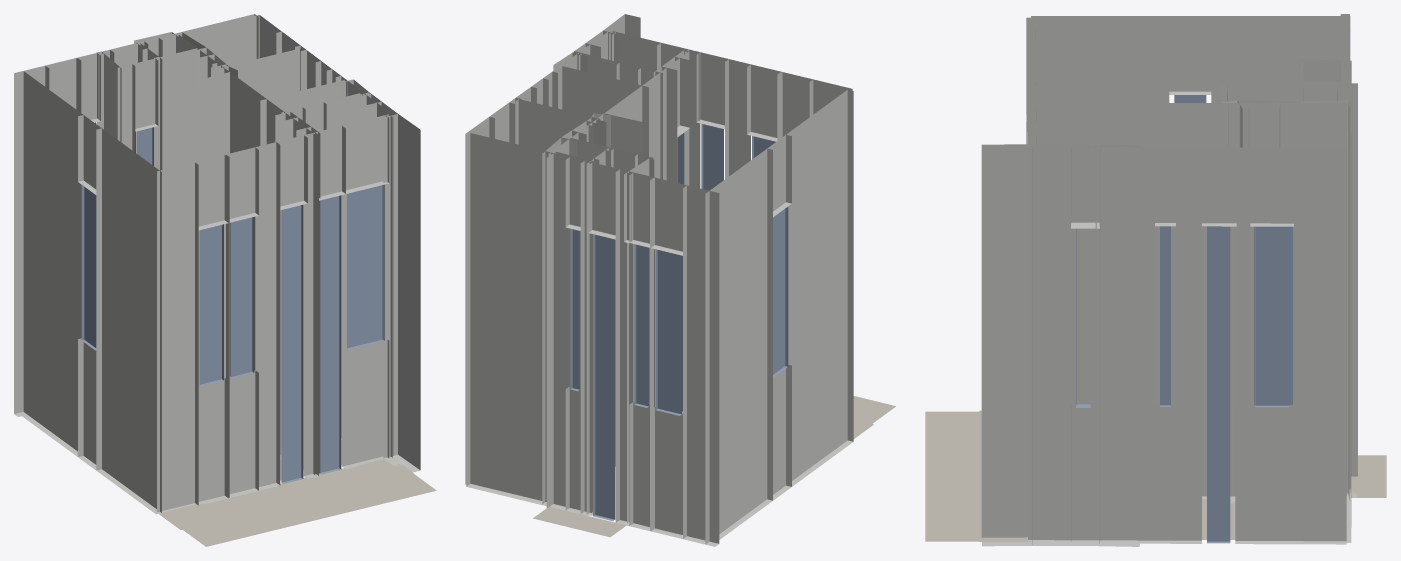
Rendered from plan2scene_vector_house.glb.
3 renders of one model, left to right at view 1: azimuth 30°, elevation 25°; view 2: azimuth 150°, elevation 25°; view 3: azimuth 270°, elevation 25°, orthographic. The views are drawn at different scales.
Parts seen in each view (by area): view 1: walls, doors_windows, floor; view 2: walls, doors_windows, floor; view 3: walls, doors_windows, floor.
Boxes of the visible parts, x1,y1,x2,y2 form: walls: [14, 14, 420, 514]; doors_windows: [81, 122, 384, 483]; floor: [159, 440, 436, 546]; walls: [465, 14, 853, 546]; doors_windows: [570, 124, 788, 520]; floor: [533, 396, 895, 540]; walls: [981, 14, 1357, 546]; doors_windows: [1076, 95, 1292, 543]; floor: [925, 410, 1386, 541].
Size of the model in its own units: 198 by 260 by 277.
